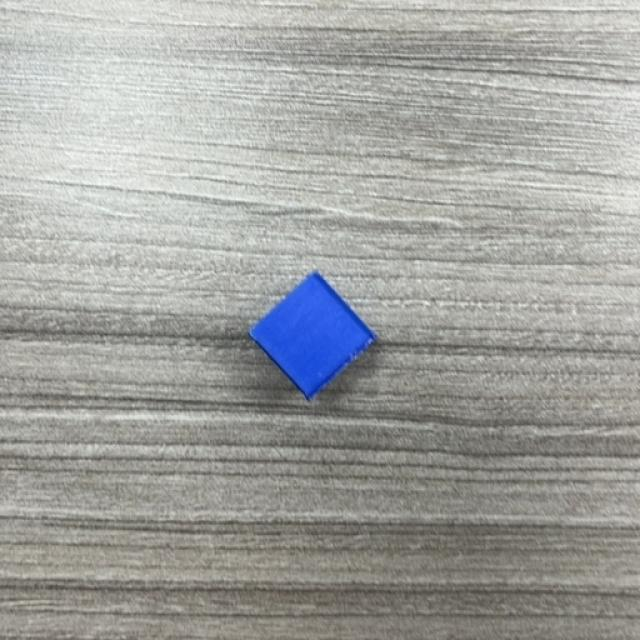Azul: (249, 272, 379, 401)
